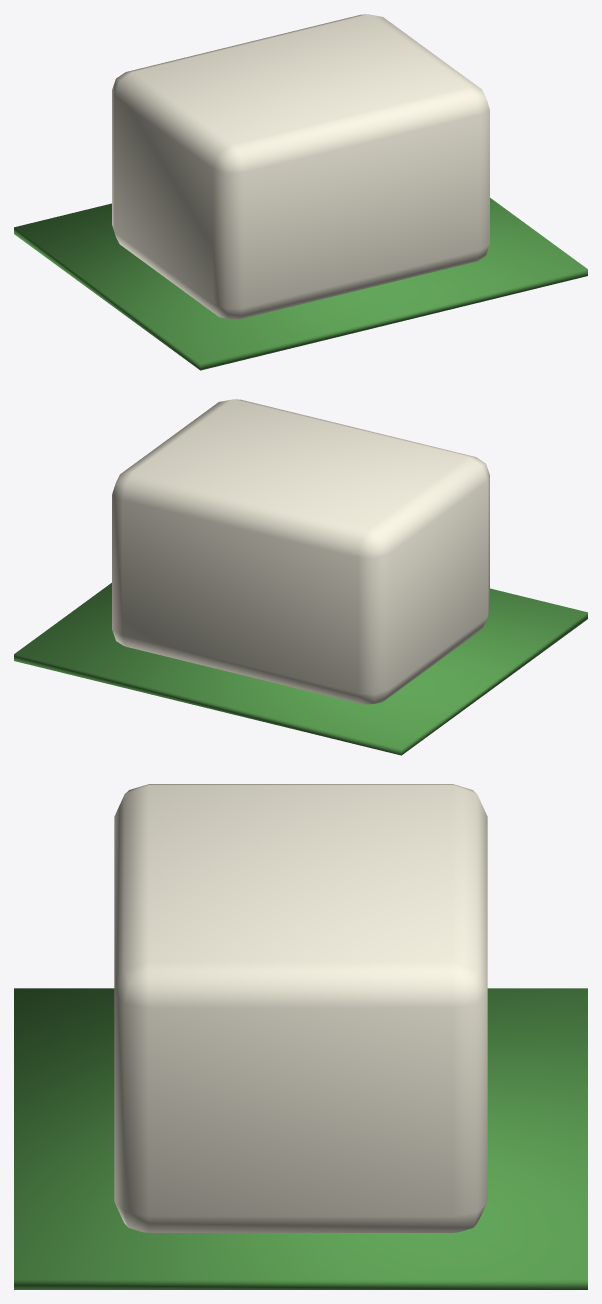
File: Food_tahu.fbx
3 renders of one model, top to bottom at view 1: azimuth 30°, elevation 25°; view 2: azimuth 150°, elevation 25°; view 3: azimuth 270°, elevation 25°, orthographic. The views are drawn at different scales.
Parts seen in each view (by area): view 1: Food_tahu; view 2: Food_tahu; view 3: Food_tahu.
Part boxes in pixels (x1,y1,x2,y2): Food_tahu: (14, 14, 587, 370); Food_tahu: (14, 399, 587, 755); Food_tahu: (14, 784, 587, 1289).
Bounding box in the file's own units: 0.12 × 0.052 × 0.1.
